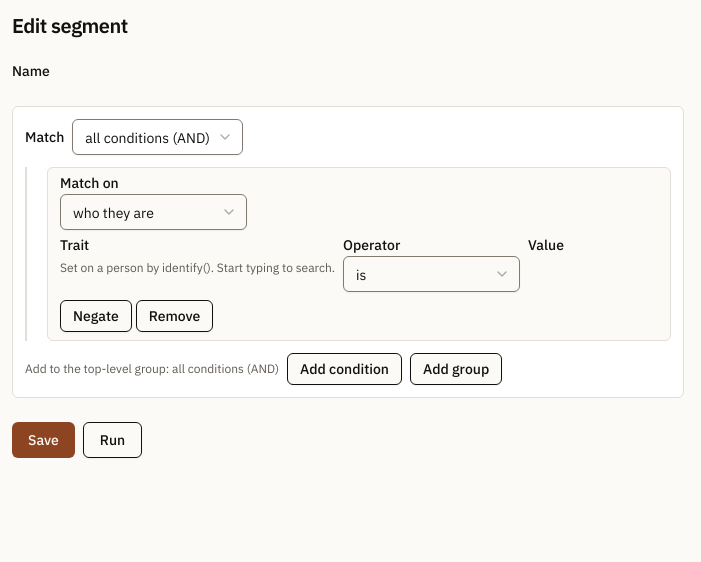
Test: SegmentBuilder -- live counts › renders the instant a count was computed at, beside the count
Expected: the element with test id "condition-0" is shown, [47,167,671,341]
Click the button "Run" at (112, 440), box [83,422,142,458]
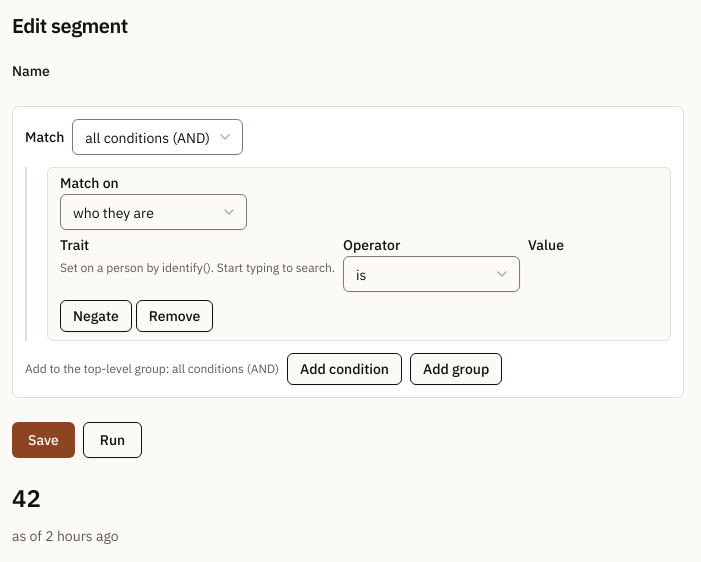
Expected: the text with test id "segment-preview-as-of" does not show "just now", [45,527,118,545]
Now the text with test id "segment-preview-count" reads "42", box [12,482,41,514]
Now the text with test id "segment-preview-as-of" reads "2 hours ago", box [45,527,118,545]
